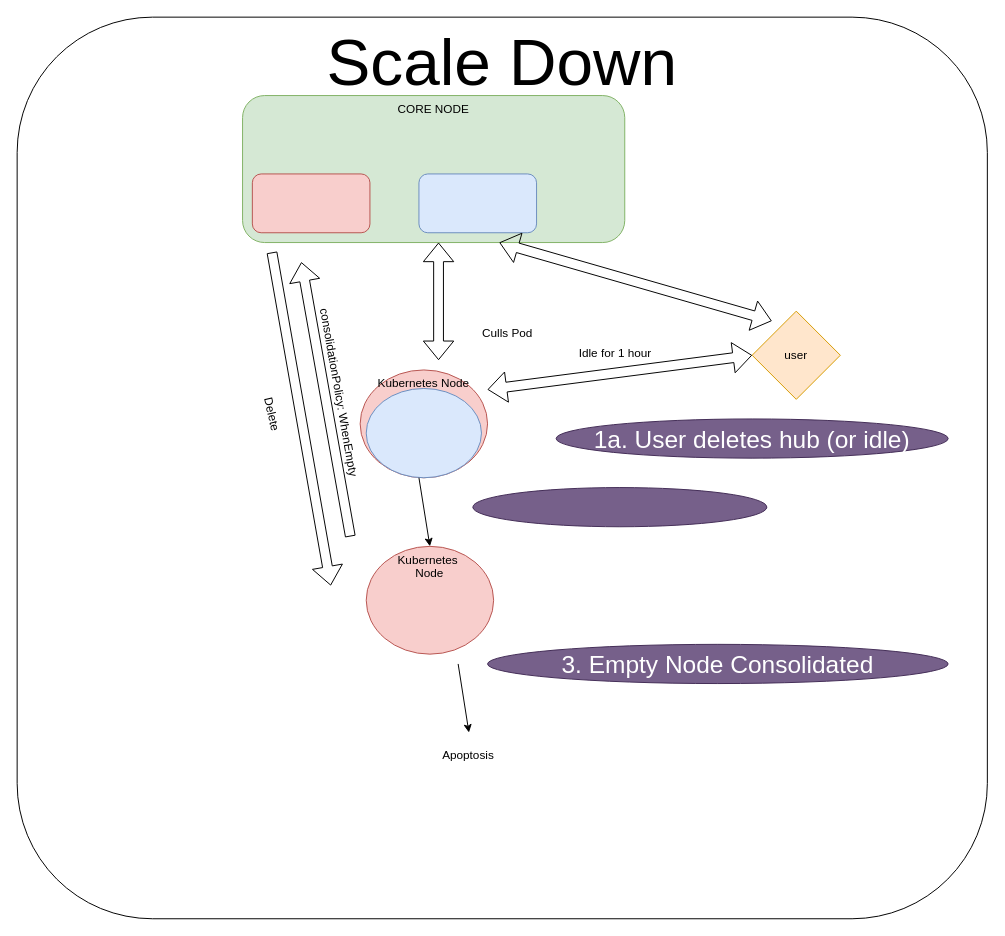
The diagram is 1005 pixels wide and 936 high, and some of its shapes have lost their labels. Here are the shapes that lost their labels. From the top down, the box of each, then its label:
(251, 173, 370, 233): Karpenter
(418, 173, 537, 233): hub server
(365, 387, 481, 478): user pod
(472, 487, 767, 527): 2. Hub deletes pod
